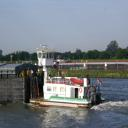tugboat: (26, 42, 107, 111)
